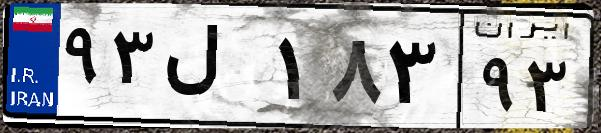1: (270, 28, 330, 110)
3: (385, 28, 445, 110), (525, 38, 570, 115), (110, 28, 158, 98)
8: (330, 28, 385, 110)
9: (57, 26, 110, 100), (475, 38, 525, 113)
ل: (158, 20, 270, 120)
